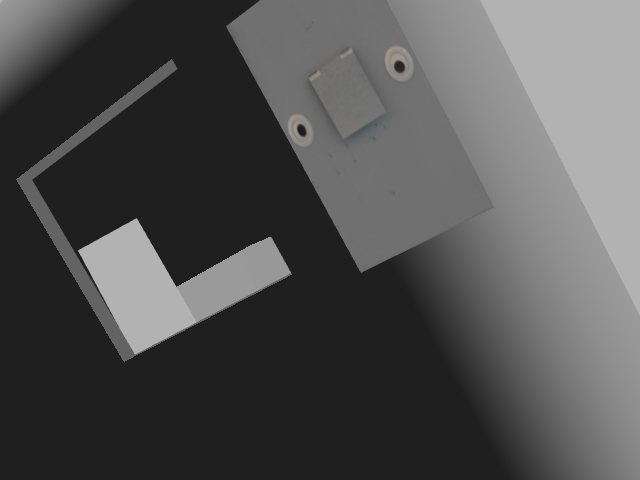facade: (287, 43, 414, 148)
